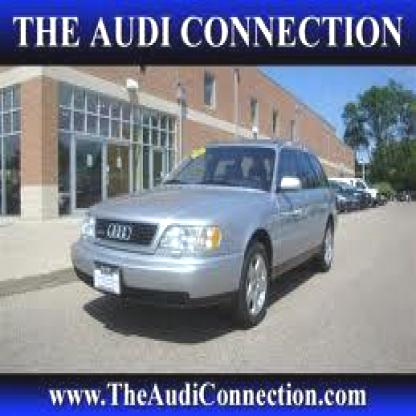Vehicle: (66, 128, 347, 338)
